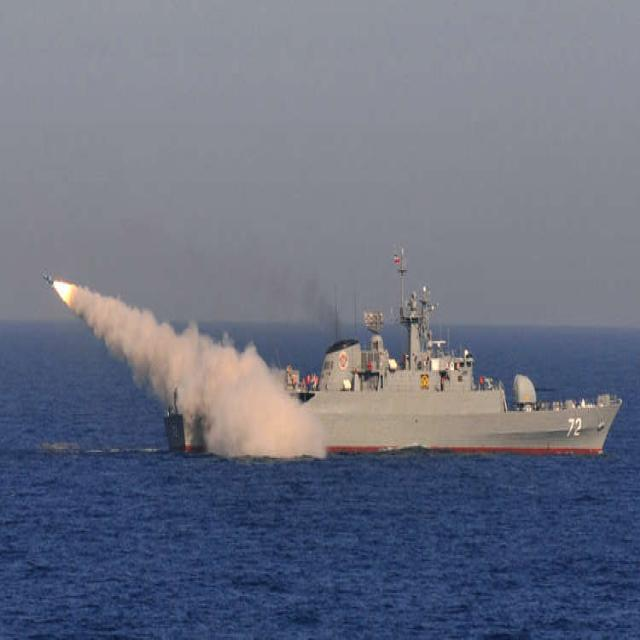navalvessels: (157, 271, 627, 467)
